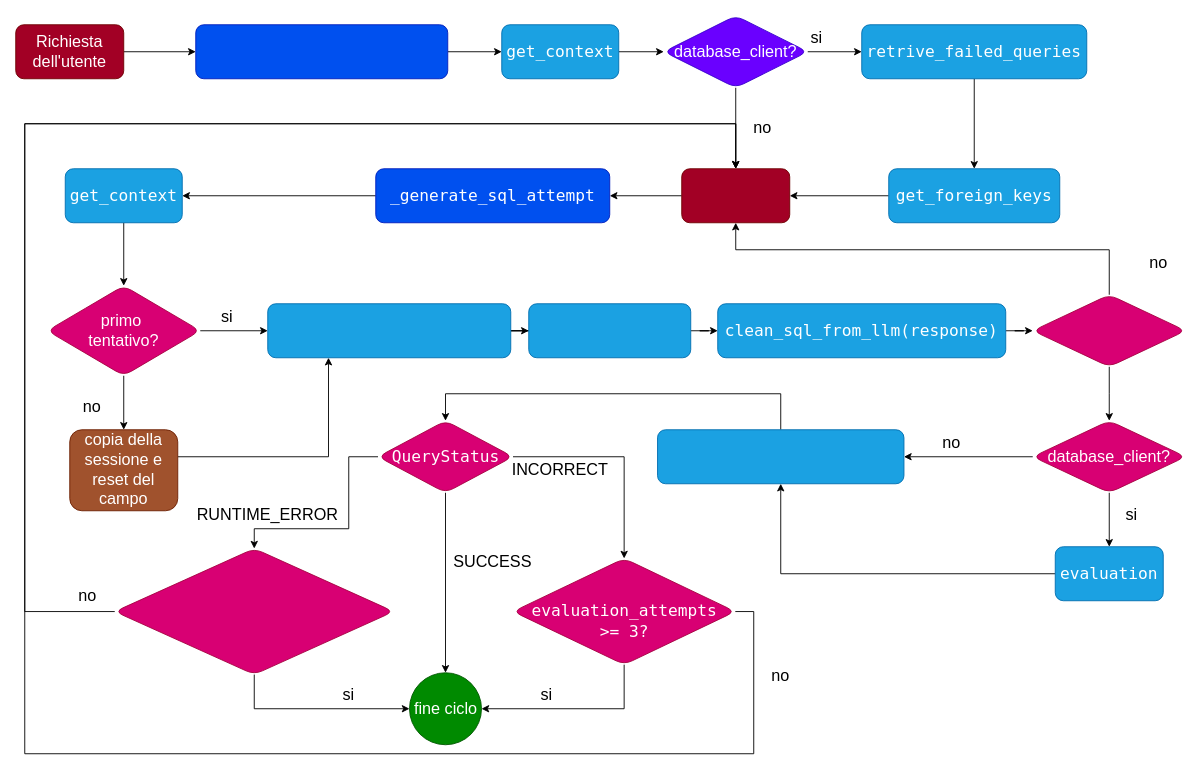
The diagram is 1202 pixels wide and 777 high, and some of its shapes have lost their labels. Each missing label, with the centre of its shape:
_init_generation_context: (321,51)
consecutive_runtime_errors >= 5?: (254,611)
current_query.evaluate(): (780,456)
generate(prompt): (609,330)
inizio loop: (735,195)
query_generation_promt: (389,330)
valid_syntax: (1109,330)
